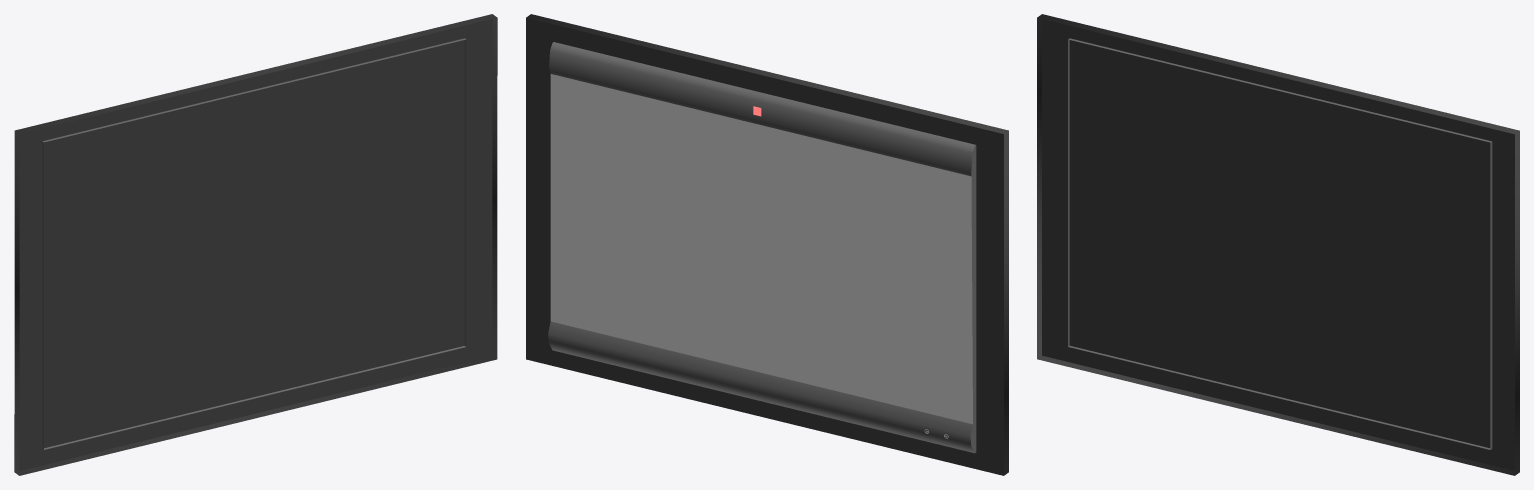
Rendered from SmartBoard_Clean.fbx.
3 views of the same model, side by side, from view 1: azimuth 30°, elevation 25°; view 2: azimuth 150°, elevation 25°; view 3: azimuth 330°, elevation 25° (orthographic).
Parts seen in each view (by area): view 1: SmartBoard_Clean; view 2: SmartBoard_Clean; view 3: SmartBoard_Clean.
Boxes of the visible parts, x1=… form: SmartBoard_Clean: x1=14, y1=14, x2=497, y2=475; SmartBoard_Clean: x1=526, y1=14, x2=1008, y2=475; SmartBoard_Clean: x1=1037, y1=14, x2=1519, y2=475.
Bounding box in the file's own units: 238 × 163 × 9.88.
